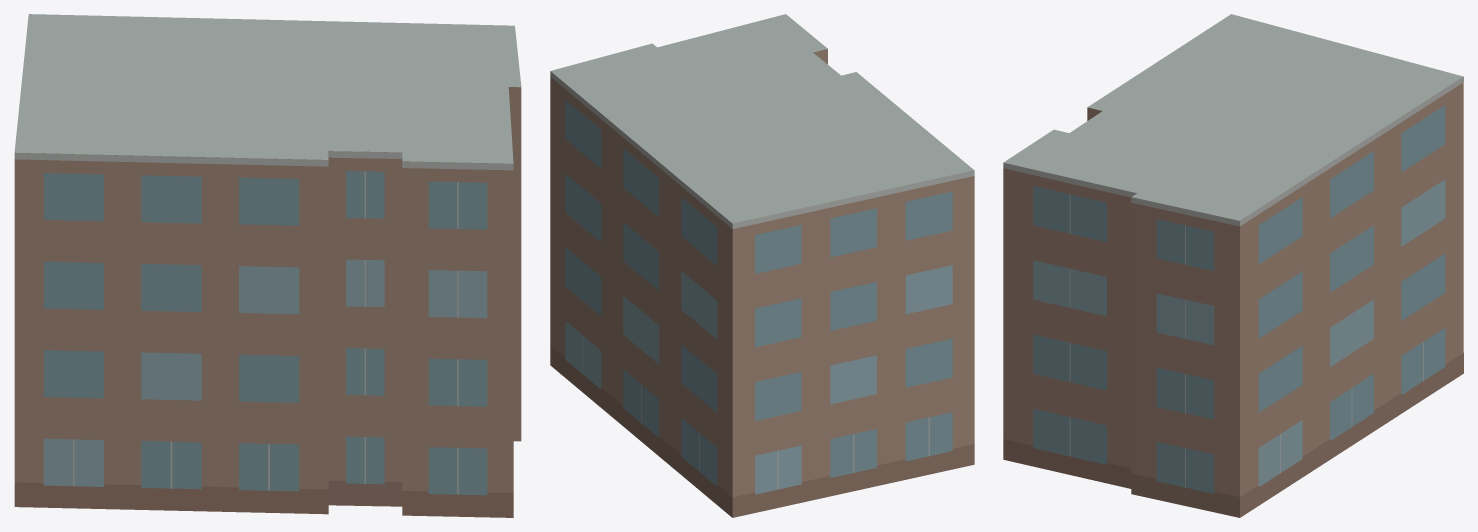
Rendered from survey-upis-32690599.glb.
3 renders of one model, left to right at view 1: azimuth 30°, elevation 25°; view 2: azimuth 150°, elevation 25°; view 3: azimuth 270°, elevation 25°, orthographic. The views are drawn at different scales.
Visible parts, largest first — view 1: survey-upis-32690599.tmp; view 2: survey-upis-32690599.tmp; view 3: survey-upis-32690599.tmp.
Boxes of the visible parts, box(x1,y1,x2,y2) form: survey-upis-32690599.tmp: box(14, 14, 521, 517); survey-upis-32690599.tmp: box(550, 14, 974, 517); survey-upis-32690599.tmp: box(1003, 14, 1463, 517).
Bounding box in the file's own units: 19.28 × 12.9 × 18.13.
